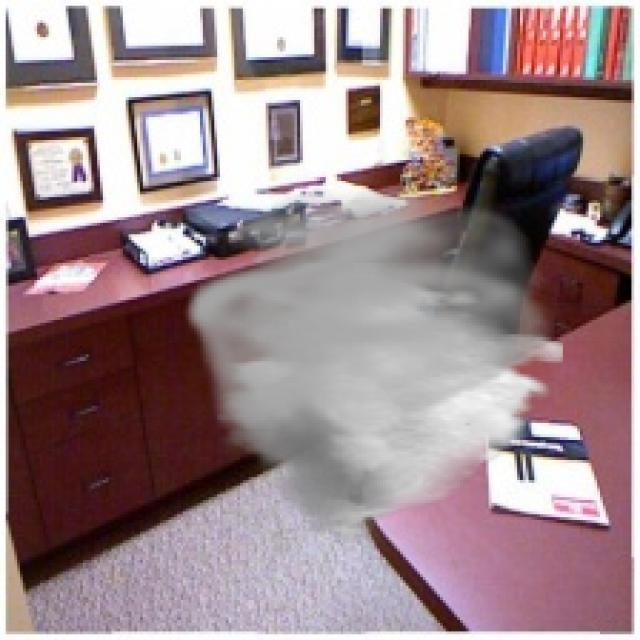Smoke: (180, 186, 563, 543)
